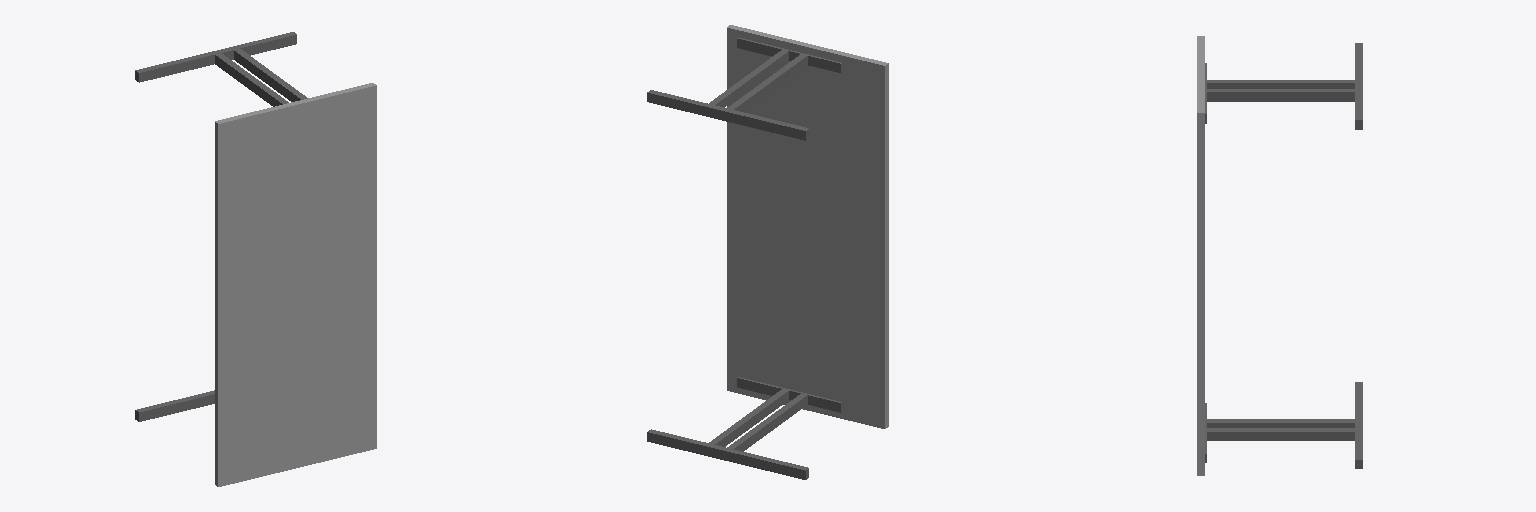
Rendered from table.obj.
3 views of the same model, side by side, from view 1: azimuth 30°, elevation 25°; view 2: azimuth 150°, elevation 25°; view 3: azimuth 270°, elevation 25° (orthographic).
Parts seen in each view (by area): view 1: Cube_Cube.001; view 2: Cube_Cube.001; view 3: Cube_Cube.001.
Part boxes in pixels (x1,y1,x2,y2): Cube_Cube.001: (135,32,376,486); Cube_Cube.001: (647,25,888,479); Cube_Cube.001: (1197,36,1362,475).
Bounding box in the file's own units: 0.762 × 1.67 × 0.6921.